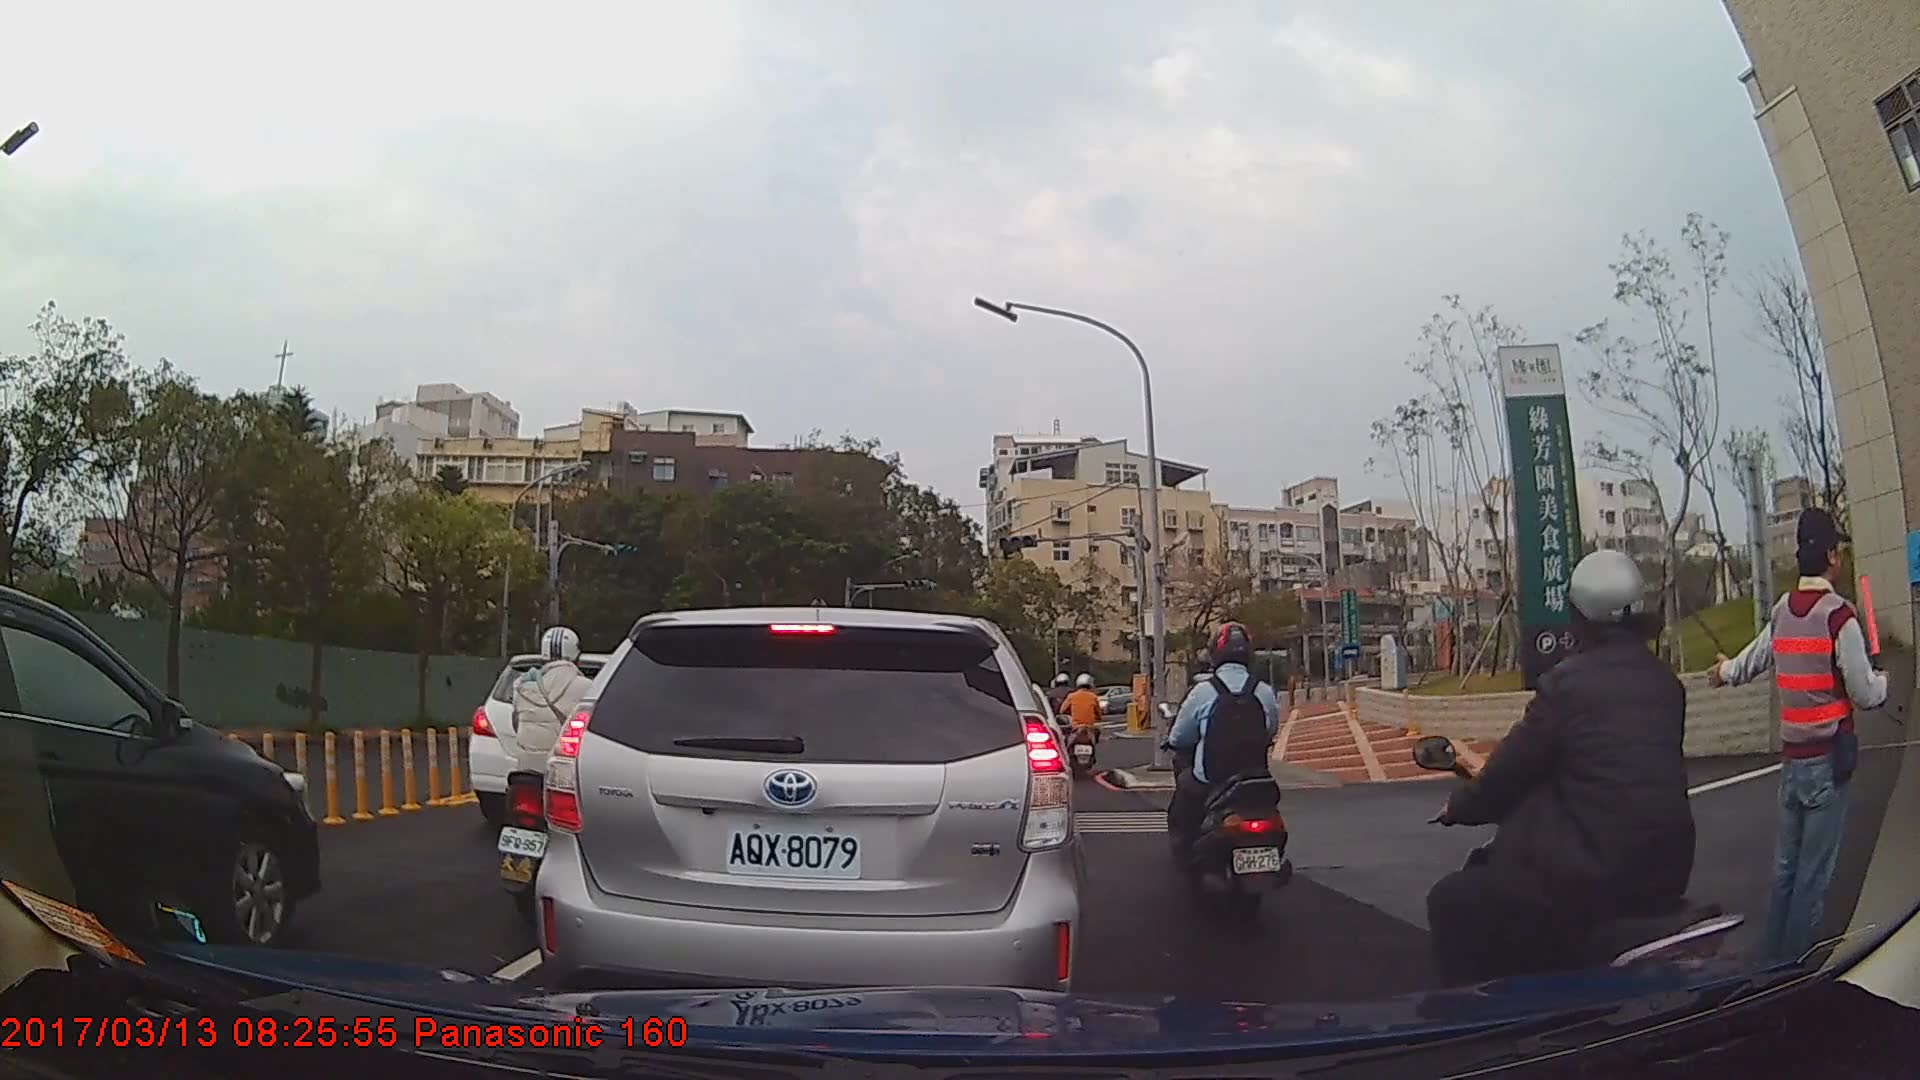pedestrian: (1708, 507, 1891, 998)
rider: (1420, 549, 1742, 1063), (496, 625, 629, 923), (1160, 623, 1284, 931), (1062, 671, 1105, 771)
vehicle: (533, 605, 1086, 1013), (0, 580, 319, 963)
